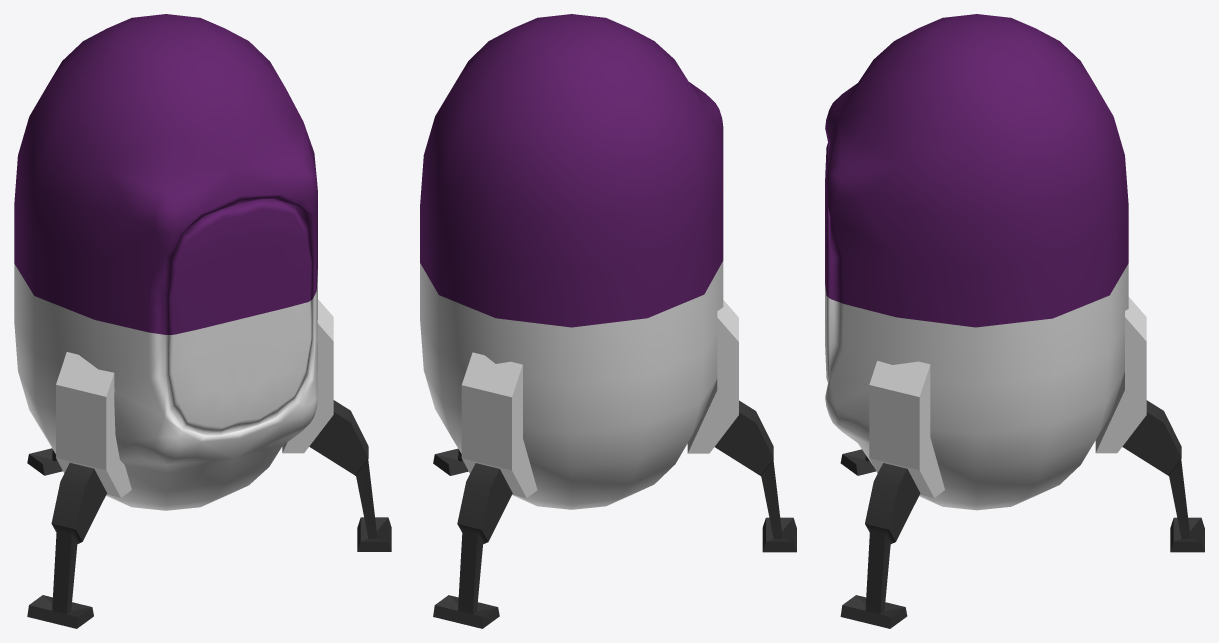
Rendered from Nave.fbx.
3 renders of one model, left to right at view 1: azimuth 30°, elevation 25°; view 2: azimuth 150°, elevation 25°; view 3: azimuth 270°, elevation 25°, orthographic.
Visible parts, largest first — view 1: Capsula, Puerta, Patas; view 2: Capsula, Patas; view 3: Capsula, Patas, Puerta.
Part boxes in pixels (x1,y1,x2,y2): Capsula: [14, 14, 317, 510]; Puerta: [166, 199, 312, 435]; Patas: [27, 299, 391, 628]; Capsula: [420, 14, 723, 509]; Patas: [433, 300, 796, 628]; Capsula: [825, 14, 1128, 510]; Patas: [840, 297, 1204, 628]; Puerta: [825, 140, 830, 382].
Size of the model in its own units: 87.84 by 118 by 79.3.
